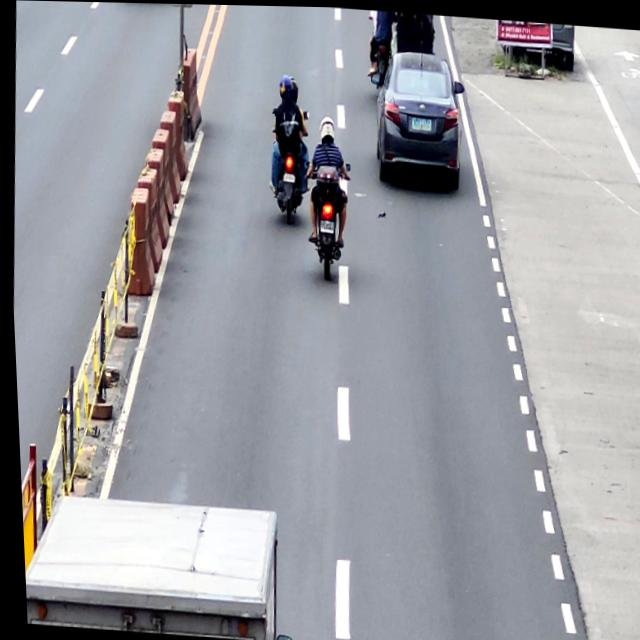Car: (364, 48, 469, 189)
License-Plate: (410, 116, 432, 130), (318, 216, 333, 233), (281, 171, 294, 183)
Motorcycle: (296, 157, 357, 281), (264, 105, 314, 223)
Truck: (17, 491, 296, 640)
